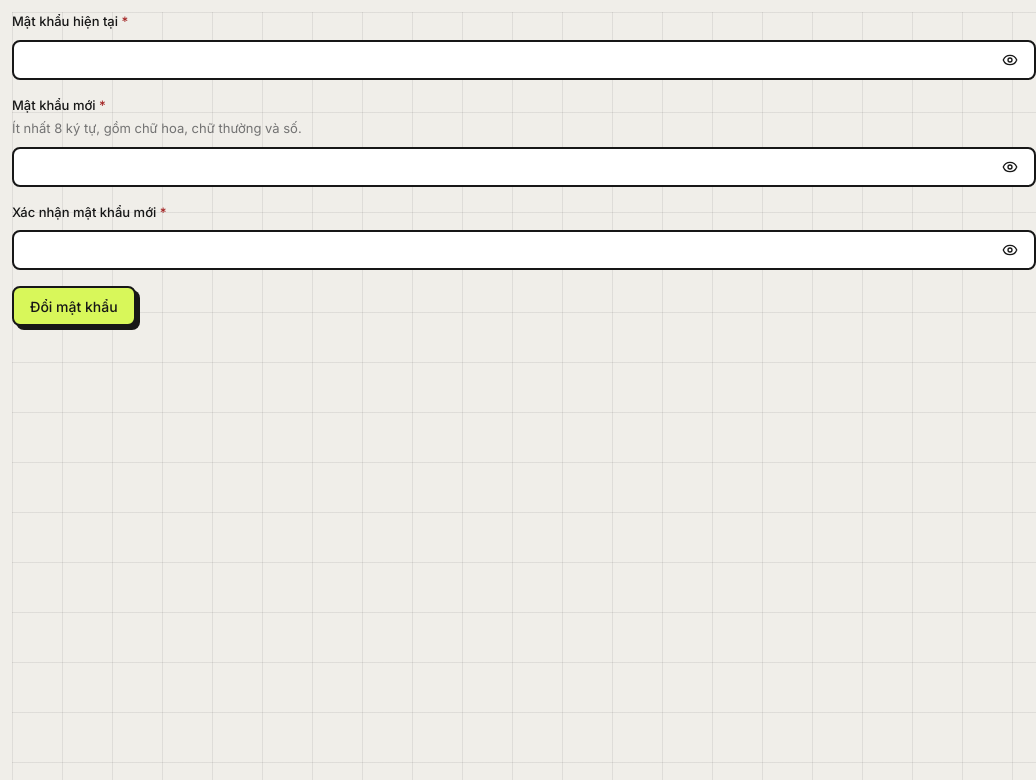
ChangePasswordForm › sends the three fields and clears the form on success
Type "Old12345" into the password field labelled "Mật khẩu hiện tại *" at (508, 60), box [26,42,990,78]
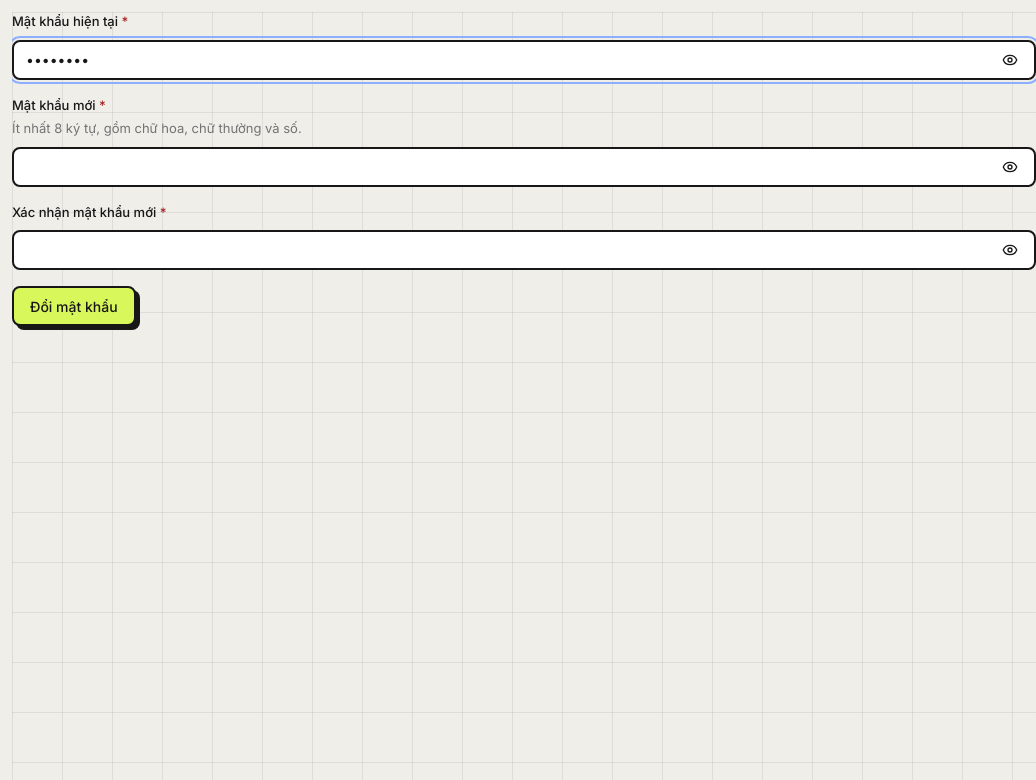
Type "New12345" into the password field labelled "Mật khẩu mới *" at (508, 166), box [26,148,990,184]
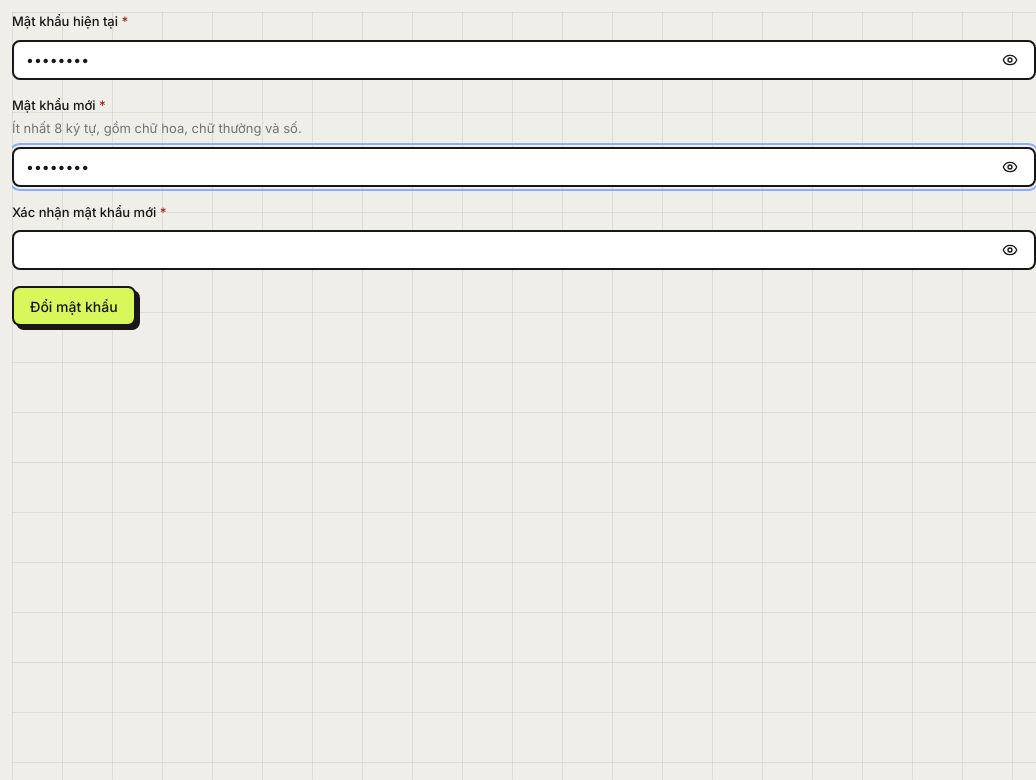
Type "New12345" into the password field labelled "Xác nhận mật khẩu mới *" at (508, 250), box [26,232,990,268]
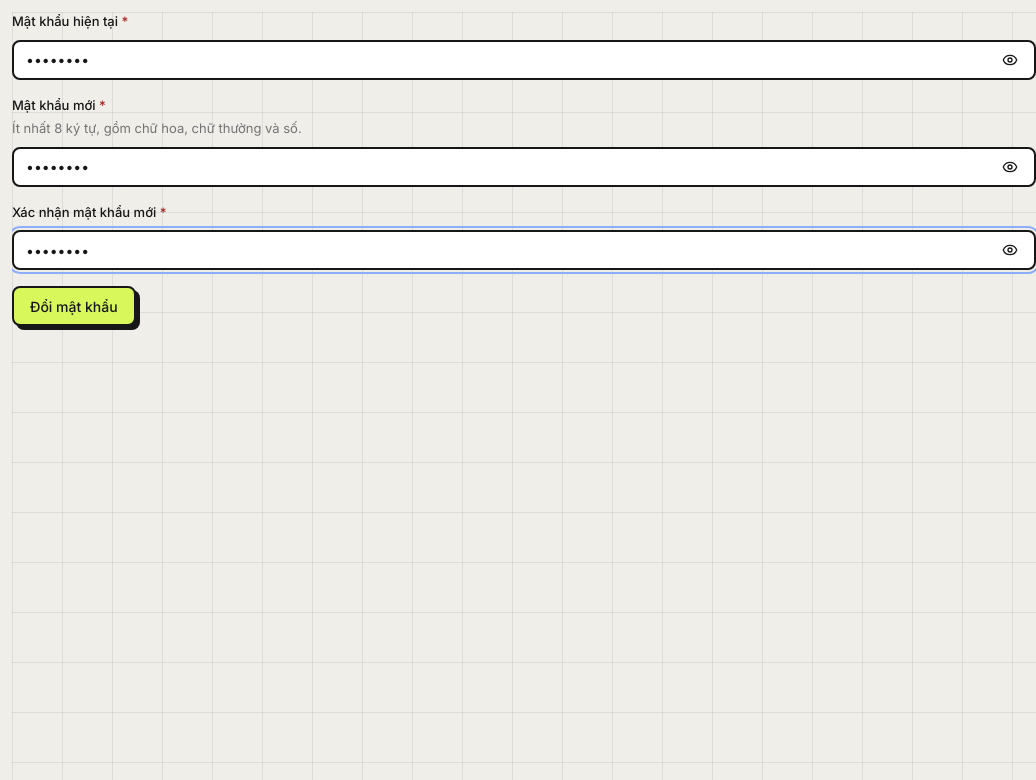
Click the button "Đổi mật khẩu" at (74, 306), box [12,286,136,326]
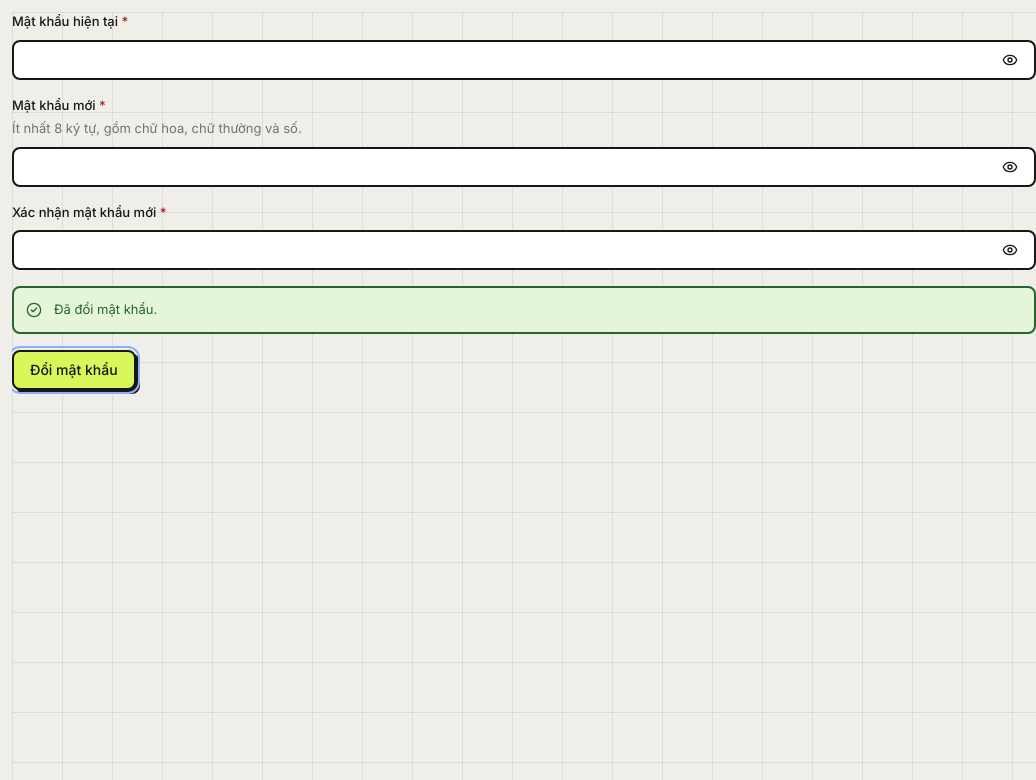
Expected: the text "Đã đổi mật khẩu." is shown, [54,301,157,317]
Expected: the password field labelled "Mật khẩu hiện tại *" is empty, [26,42,990,78]
